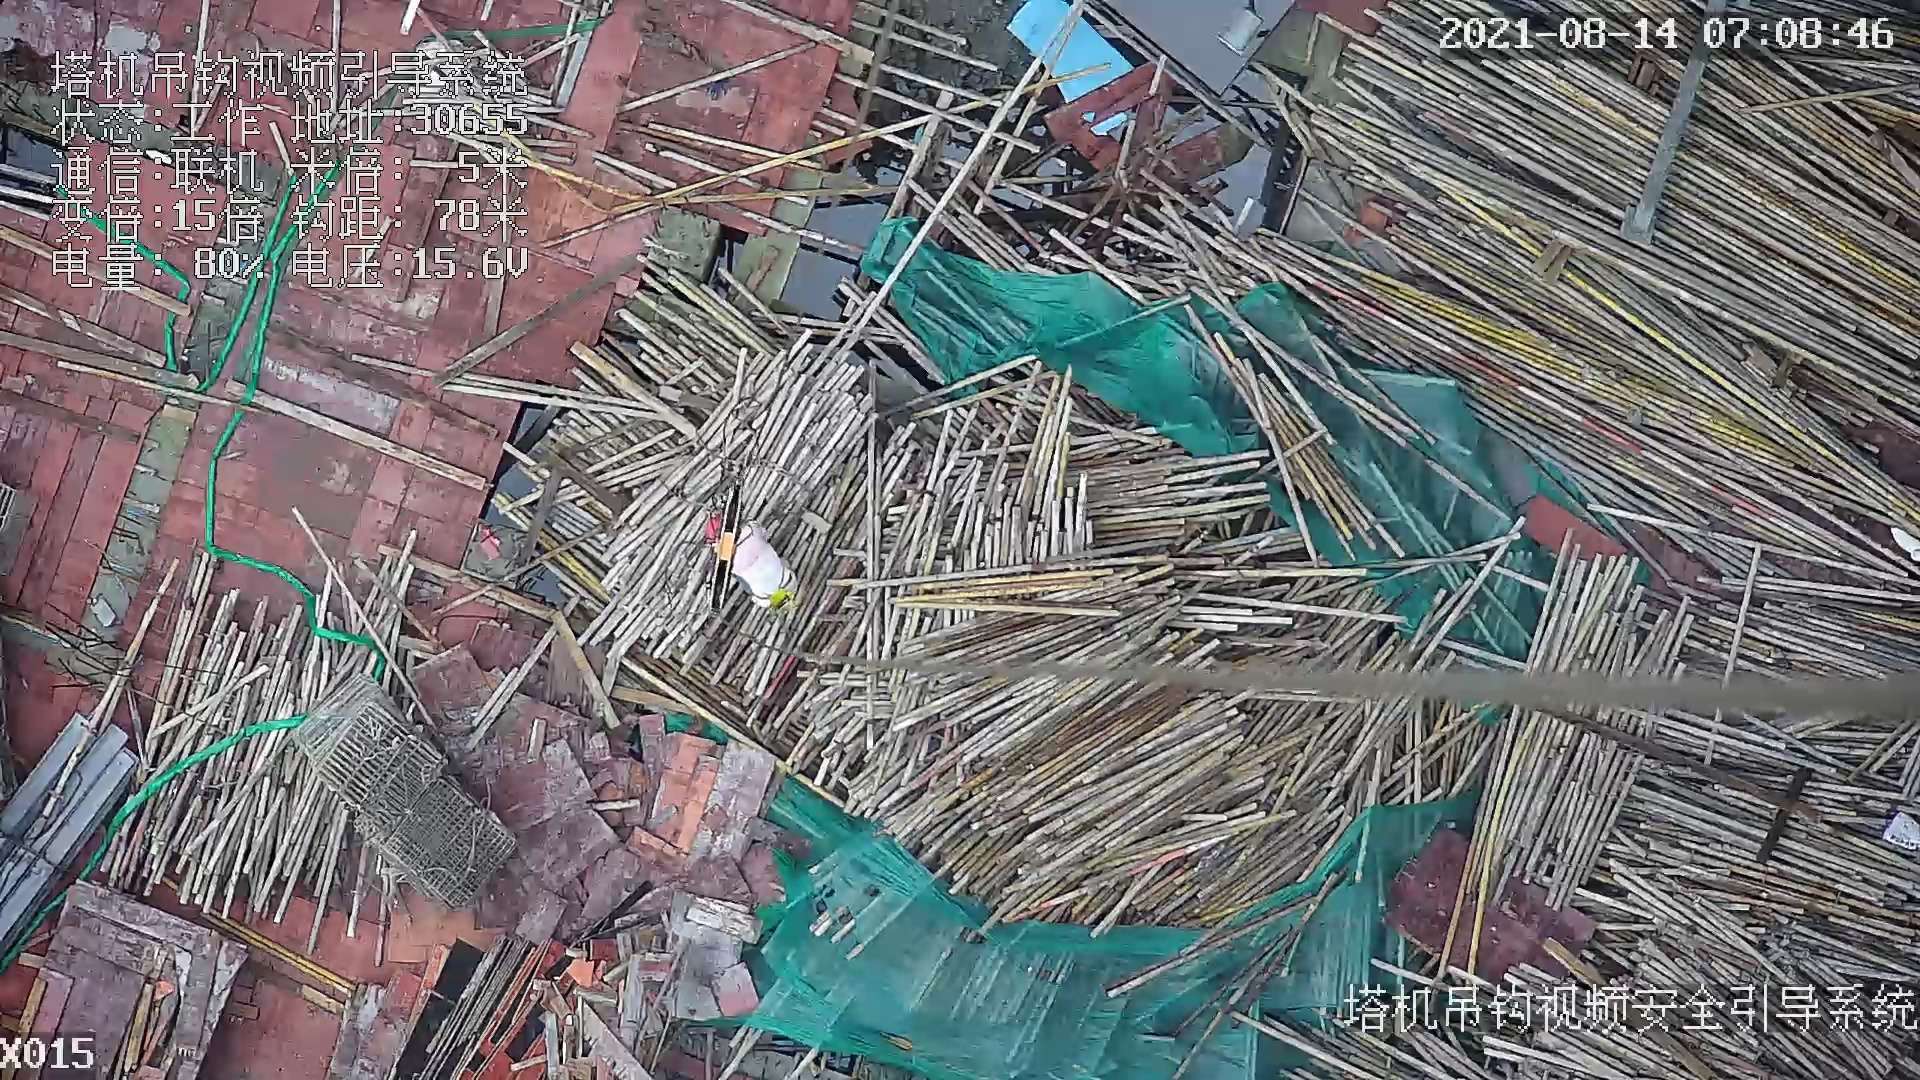hook: (718, 489, 747, 618)
person: (704, 510, 792, 605)
